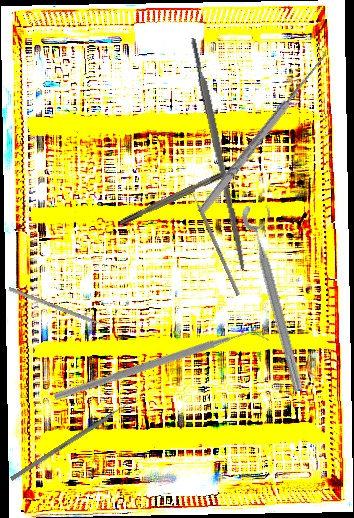Chopper: (52, 256, 271, 481)
Fixation Ring: (239, 200, 319, 394)
Hook Surgical: (190, 44, 331, 218), (118, 162, 245, 226)
Pusher: (10, 393, 142, 482), (186, 182, 241, 296), (8, 286, 120, 334)
Scalpel Handle: (189, 36, 249, 272)
